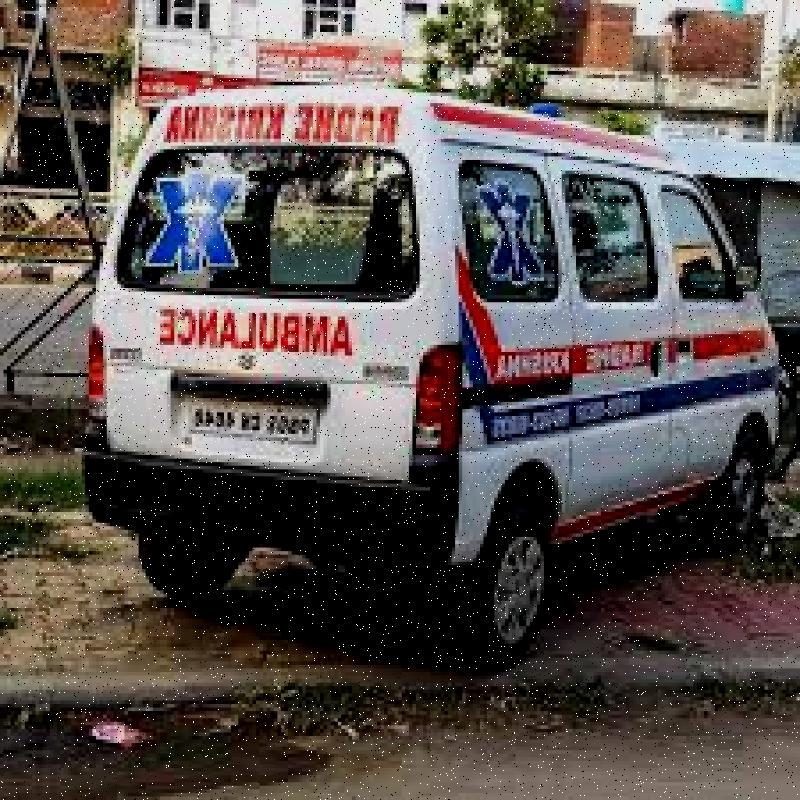ambulance: (103, 128, 766, 636)
